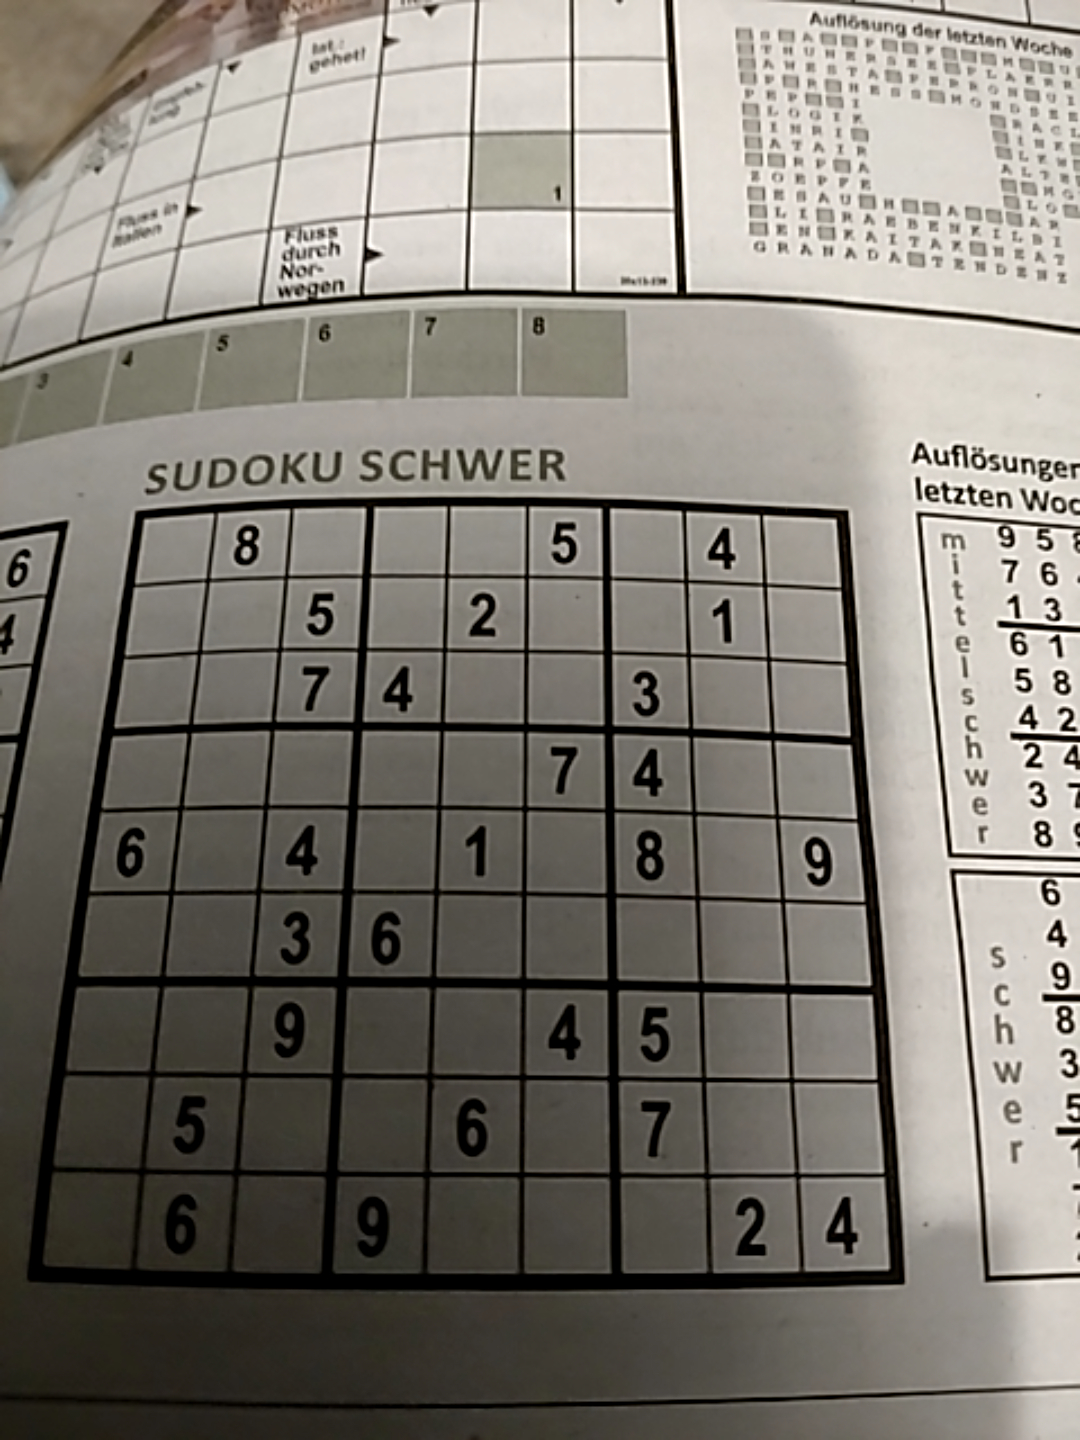sudoku: (25, 493, 905, 1289)
